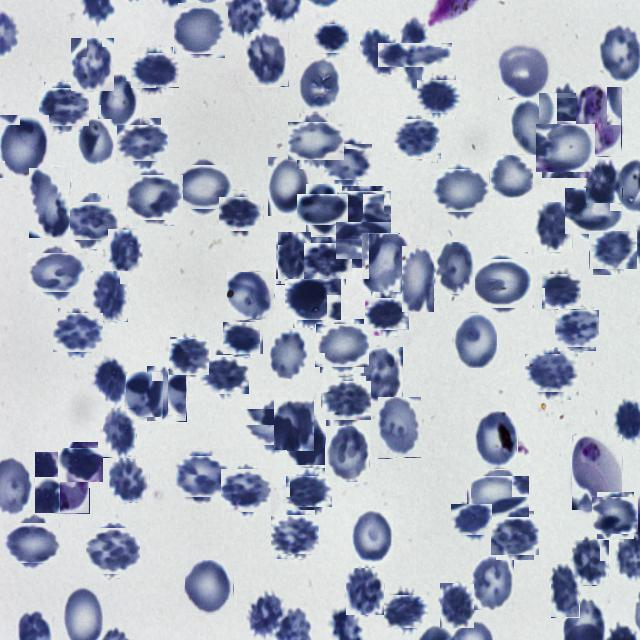red blood cell: (0, 115, 50, 179), (498, 43, 551, 100), (476, 256, 531, 310), (539, 121, 593, 175), (362, 233, 410, 293), (29, 168, 70, 238), (378, 396, 422, 458), (178, 162, 230, 214), (472, 471, 524, 523), (128, 171, 180, 223), (568, 185, 620, 237), (185, 560, 234, 615), (434, 166, 486, 217), (326, 422, 370, 482), (176, 5, 227, 56), (475, 411, 518, 470), (358, 347, 403, 403), (298, 58, 343, 114), (509, 98, 553, 155), (88, 526, 138, 576), (268, 157, 310, 216), (452, 313, 497, 368), (244, 32, 289, 87), (470, 554, 514, 610), (98, 72, 141, 129), (339, 188, 388, 238), (390, 30, 439, 80), (318, 321, 367, 370), (289, 275, 338, 324), (71, 38, 115, 92), (65, 197, 114, 245), (8, 518, 56, 566), (177, 452, 225, 500), (32, 248, 80, 296), (227, 272, 275, 320), (292, 117, 340, 164), (146, 366, 186, 422), (352, 510, 393, 564), (223, 467, 270, 514), (341, 216, 386, 264), (436, 242, 476, 295), (402, 246, 434, 312), (267, 330, 310, 379), (528, 351, 574, 396), (41, 84, 86, 130), (250, 404, 295, 450), (56, 310, 100, 356), (324, 378, 368, 424), (274, 400, 314, 450), (120, 121, 164, 166), (534, 202, 573, 252), (396, 116, 440, 160), (489, 154, 533, 198), (274, 512, 318, 556), (590, 228, 634, 272), (544, 88, 588, 132), (202, 352, 246, 396), (276, 232, 312, 285), (493, 514, 537, 557), (91, 271, 128, 322), (109, 458, 150, 503), (360, 29, 400, 75), (287, 416, 325, 464), (326, 140, 369, 182), (346, 568, 384, 615), (77, 119, 114, 167), (134, 50, 176, 92), (301, 188, 343, 230), (306, 240, 348, 282), (594, 494, 636, 536), (126, 372, 164, 418), (556, 308, 598, 349), (572, 540, 609, 586), (103, 408, 137, 458), (249, 592, 284, 638), (386, 592, 426, 632), (222, 194, 262, 234), (61, 445, 101, 485), (92, 358, 126, 405), (551, 564, 580, 618), (440, 583, 474, 628), (290, 472, 329, 511), (419, 77, 458, 116), (170, 338, 208, 377), (586, 162, 622, 203), (108, 228, 143, 270), (542, 272, 580, 310), (368, 294, 406, 332), (226, 320, 262, 356), (453, 502, 489, 538), (315, 22, 347, 54)
trophozoite: (572, 435, 622, 510), (35, 452, 90, 514), (576, 87, 622, 157)
